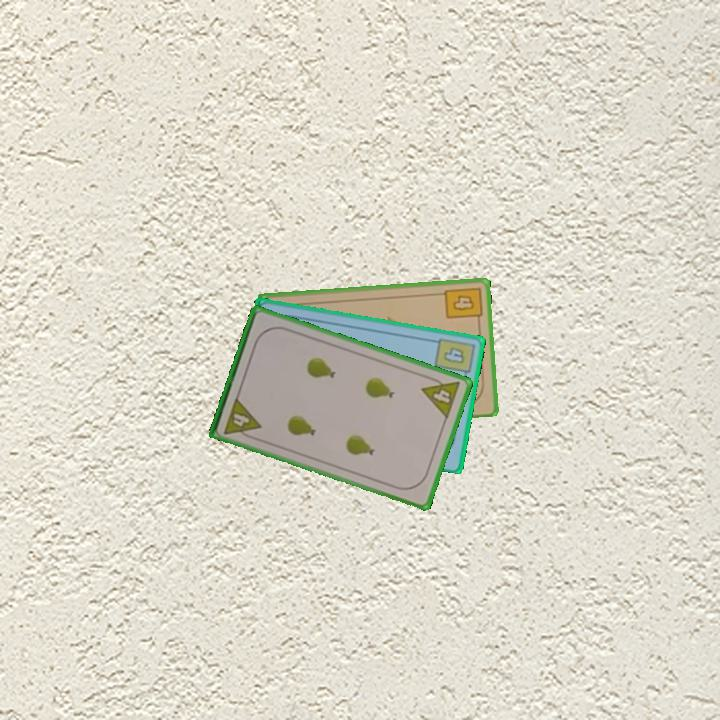4b: (431, 334, 477, 383), (441, 284, 485, 326)
4p: (418, 372, 463, 422), (220, 393, 264, 443)
